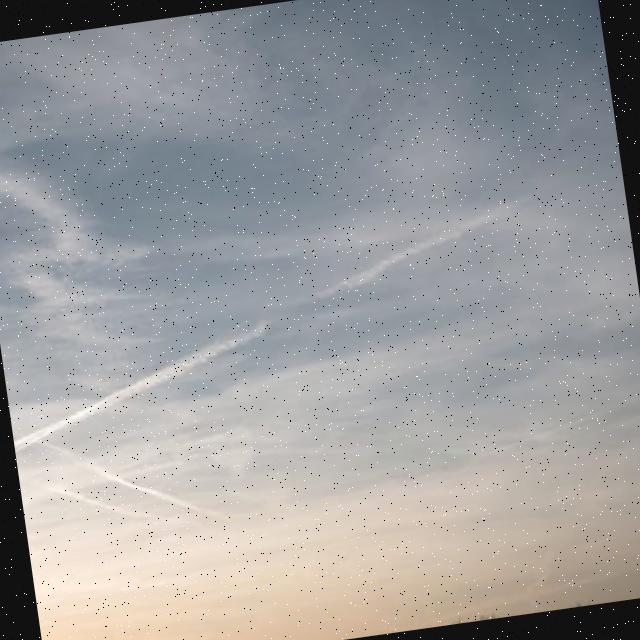Ct: (1, 26, 640, 568)
